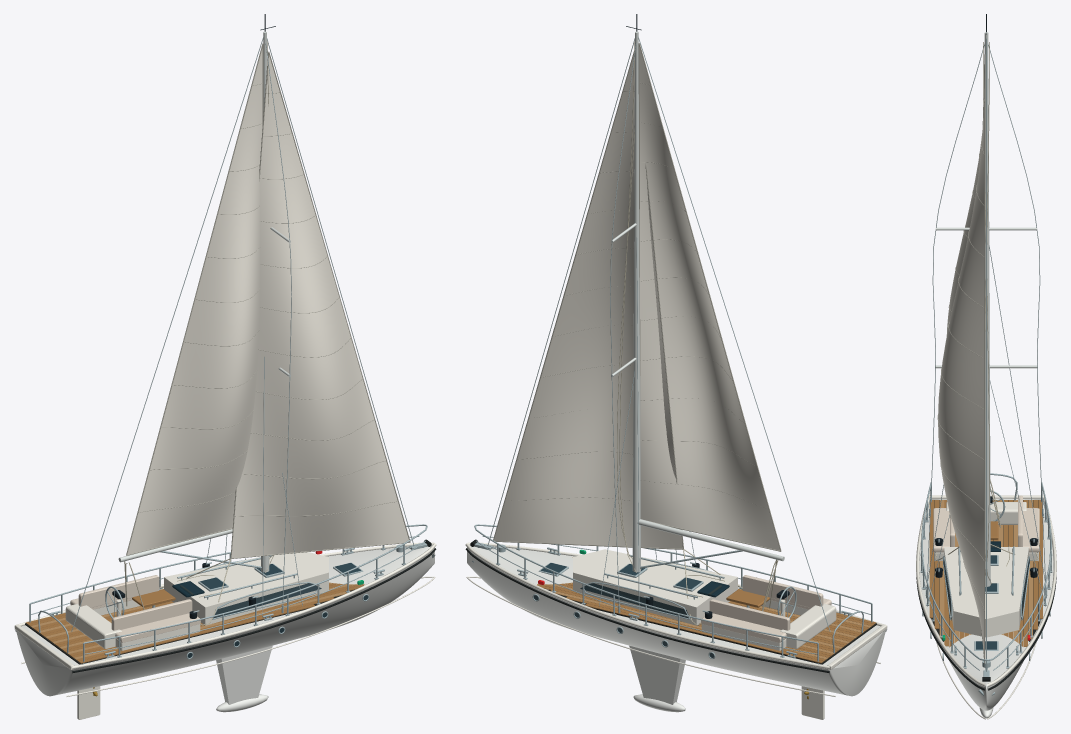
Rendered from sailing-yacht.glb.
The picture shows the model from 3 angles, left to right: view 1: azimuth 30°, elevation 25°; view 2: azimuth 150°, elevation 25°; view 3: azimuth 270°, elevation 25°; orthographic projection. The views are drawn at different scales.
Visible parts, largest first — view 1: sail, paint, white, steel, seam, teak, cushion, blackGlass, teakLight, roof, rubber; view 2: sail, paint, white, steel, roof, seam, teak, cushion, blackGlass, rope, teakLight, rubber; view 3: sail, white, steel, paint, teak, roof, seam, cushion, teakLight, rope, blackGlass, rubber (+2 smaller).
Part boxes in pixels (x1,y1,x2,y2): sail: (127,48,409,557); paint: (16,544,434,712); white: (14,542,436,719); steel: (29,36,435,664); seam: (126,43,410,558); teak: (26,583,364,663); cushion: (70,575,200,642); blackGlass: (172,563,368,657); teakLight: (30,582,354,659); roof: (118,31,290,572); rubber: (15,539,436,673); sail: (494,47,780,550); paint: (467,544,885,712); white: (465,542,887,719); steel: (472,36,872,664); roof: (611,31,784,572); seam: (493,43,781,551); teak: (537,557,876,663); cushion: (701,575,831,642); blackGlass: (533,563,729,657); rope: (617,41,778,625); teakLight: (548,582,871,659); rubber: (465,539,886,673); sail: (938,89,984,653); white: (916,495,1056,719); steel: (920,38,1052,695); paint: (919,498,1053,718); teak: (929,500,1042,647); roof: (935,32,1037,586); seam: (937,54,985,663); cushion: (933,495,1039,552); teakLight: (939,500,1032,642); rope: (935,42,1038,583); blackGlass: (943,541,1029,649); rubber: (916,577,1056,690).
Bounding box in the file's own units: 12.26 × 20.54 × 3.71.
